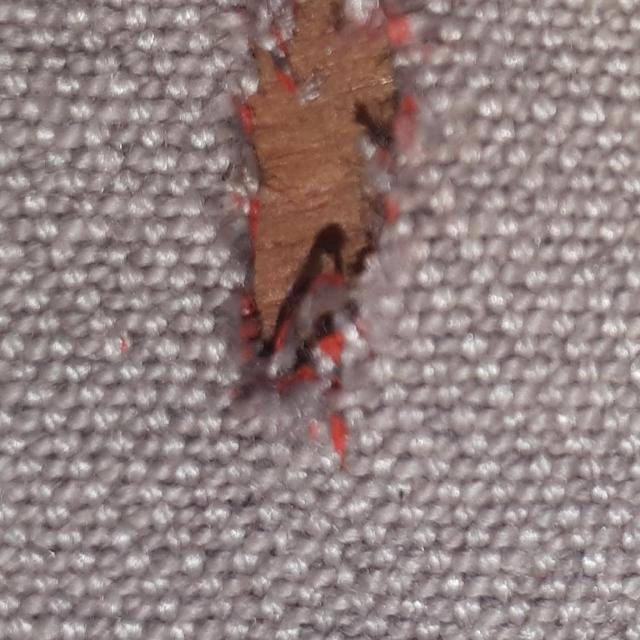hole: (228, 0, 430, 423)
